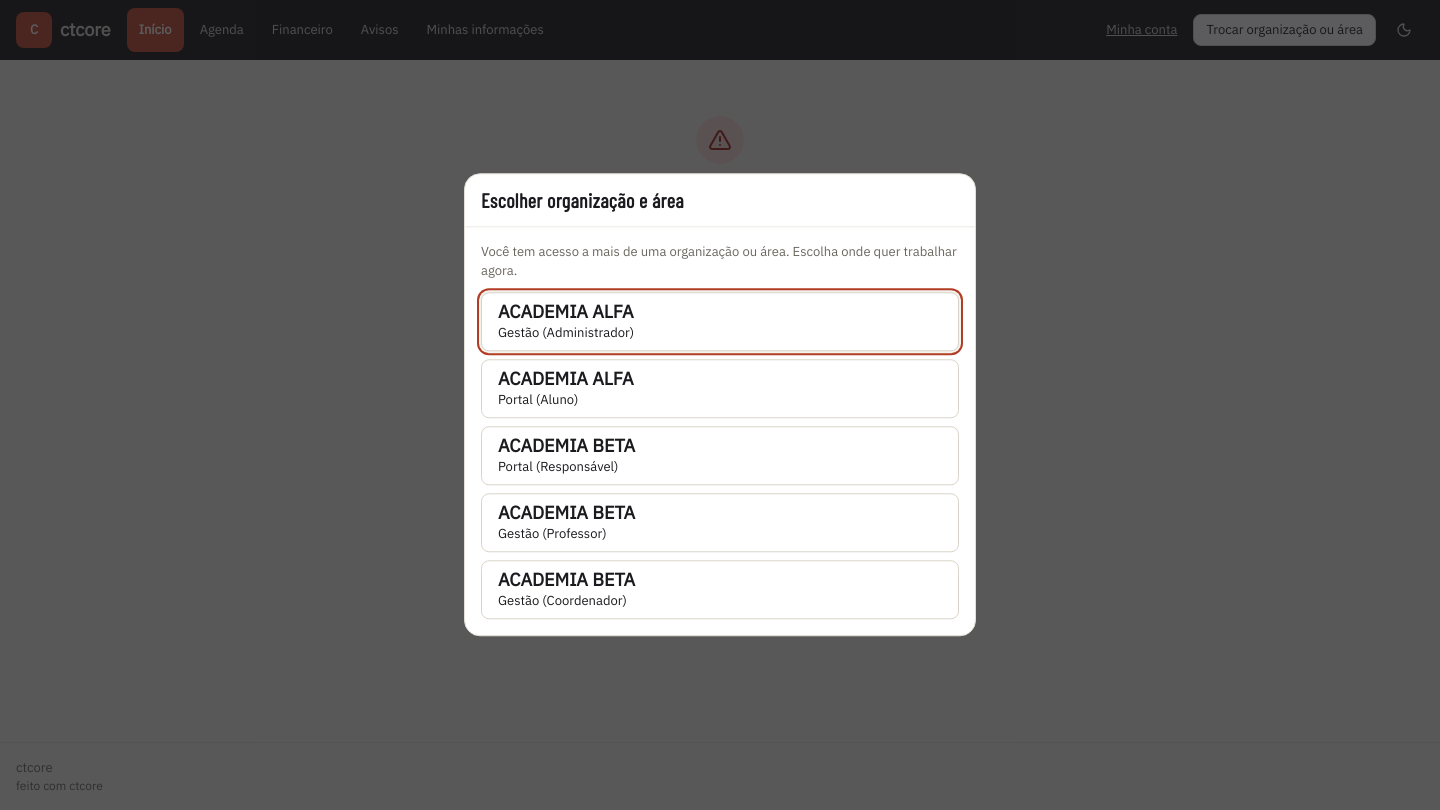
ChooseLink › CA10: rede fora também mostra o erro com Tentar de novo
Click the button "Academia Alfa Portal (Aluno)": (566, 379) [481, 360, 959, 419]
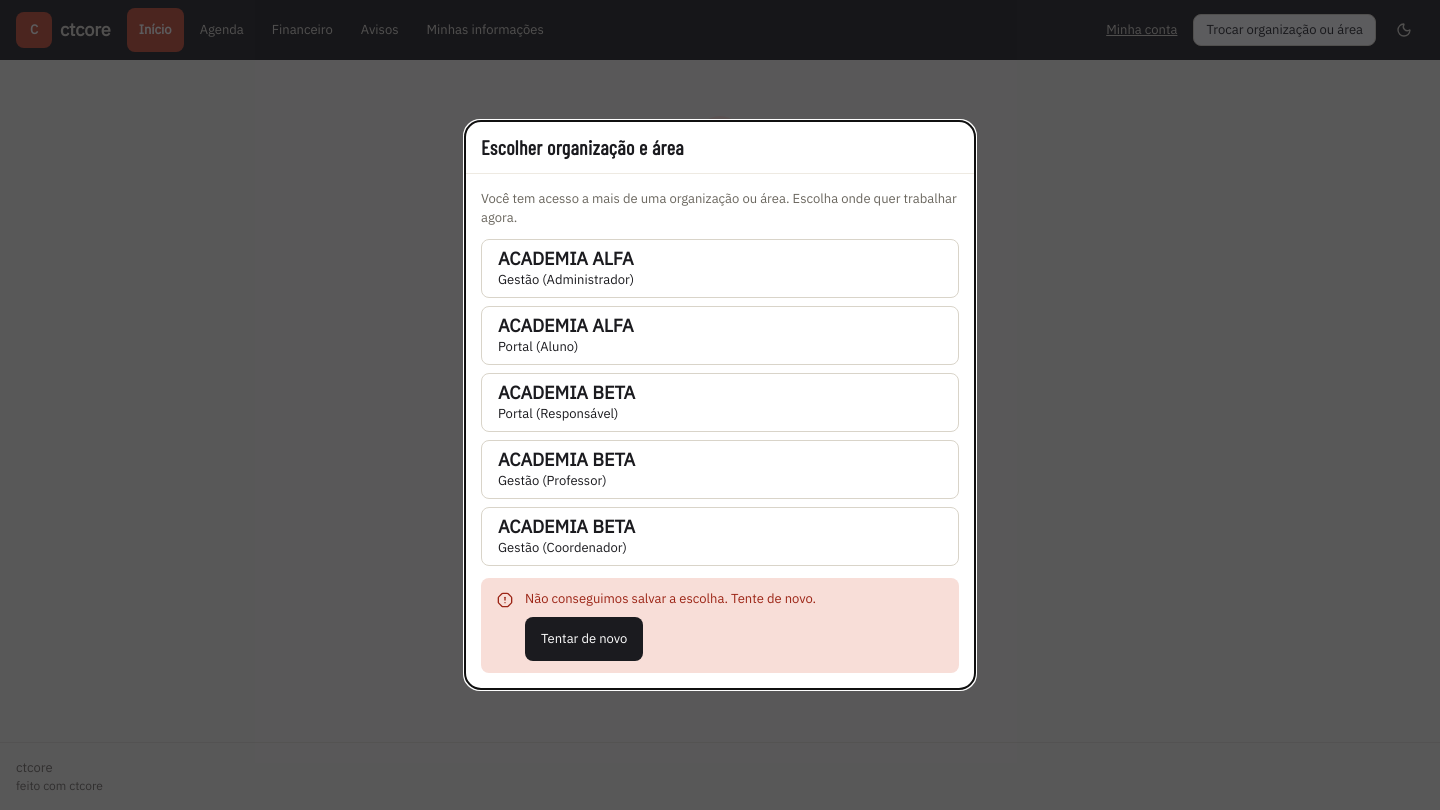
Result: the button "Tentar de novo" is shown at [525, 617, 643, 661]
